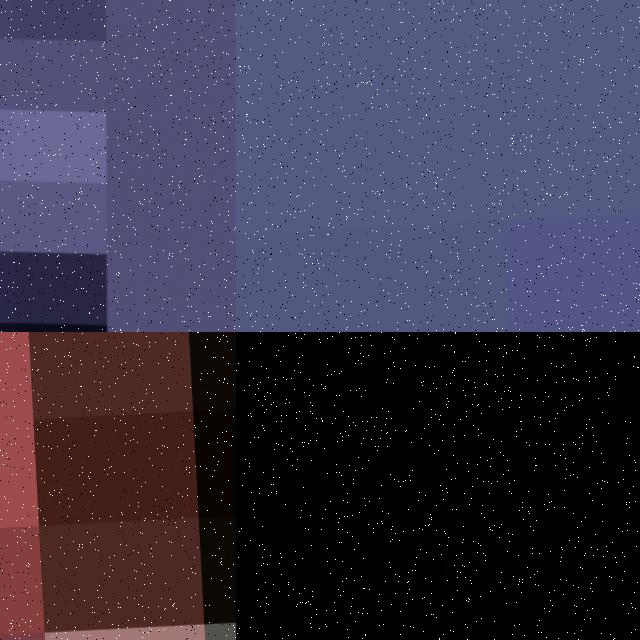drone: (0, 0, 236, 332)
